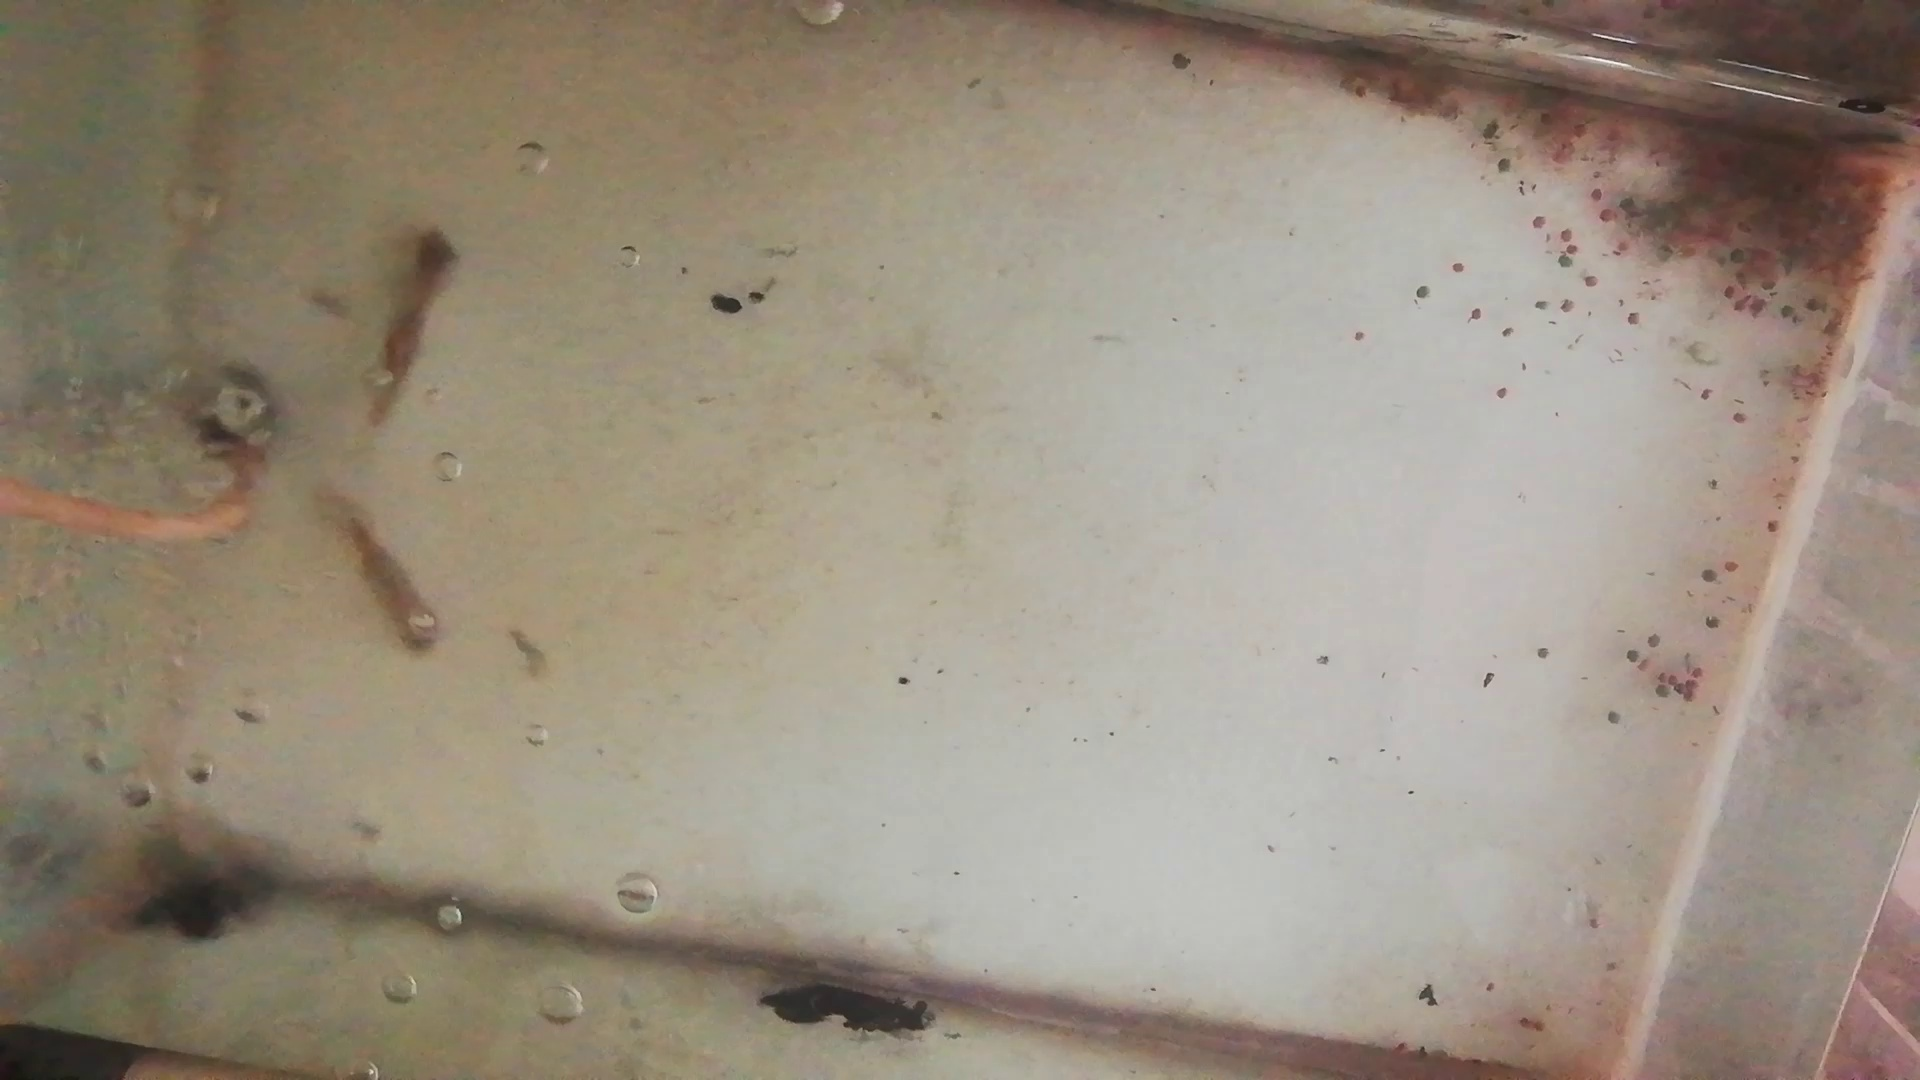fish: (309, 483, 442, 653), (363, 222, 458, 433)
